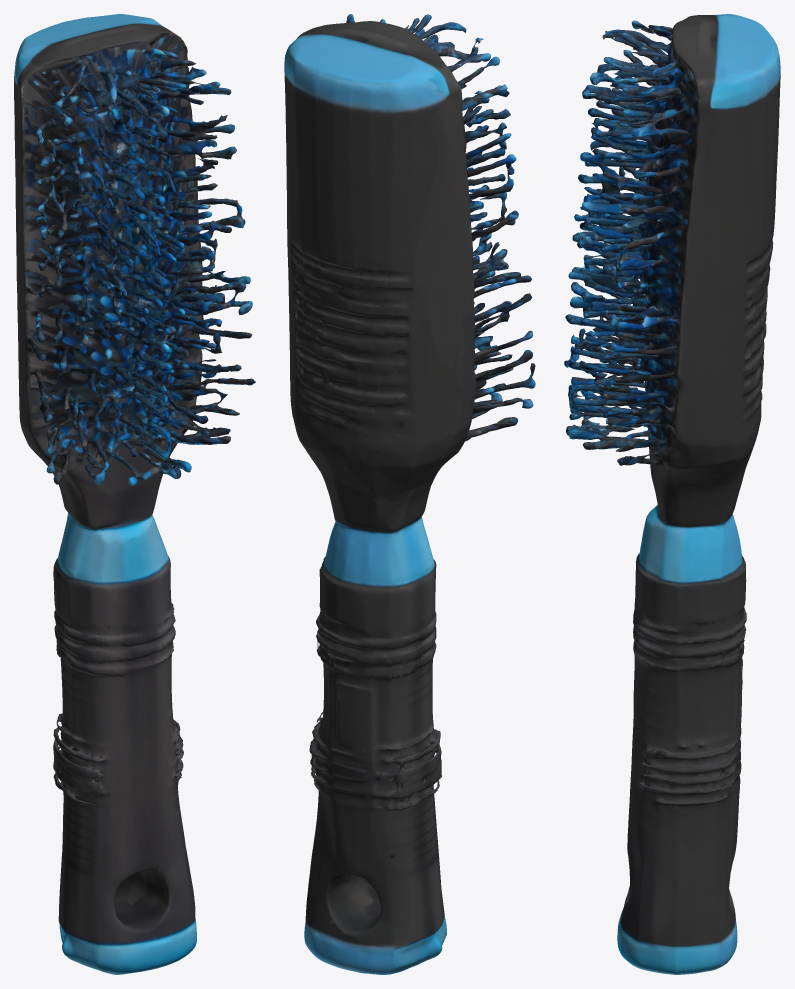
Rendered from Conair_Hairbrush_on_W_1105002715_texture.obj.
3 renders of one model, left to right at view 1: azimuth 30°, elevation 25°; view 2: azimuth 150°, elevation 25°; view 3: azimuth 270°, elevation 25°, orthographic.
Visible parts, largest first — view 1: Conair_Hairbrush_on_W_1105002715_texture; view 2: Conair_Hairbrush_on_W_1105002715_texture; view 3: Conair_Hairbrush_on_W_1105002715_texture.
Part boxes in pixels (bbox=[...]): Conair_Hairbrush_on_W_1105002715_texture: bbox=[14, 14, 255, 974]; Conair_Hairbrush_on_W_1105002715_texture: bbox=[284, 14, 535, 974]; Conair_Hairbrush_on_W_1105002715_texture: bbox=[564, 14, 780, 974].
Bounding box in the file's own units: 0.0495 × 0.2 × 0.043.
1 material, 1 textured.
